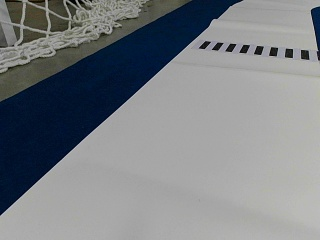crosswalk: (199, 39, 313, 60)
